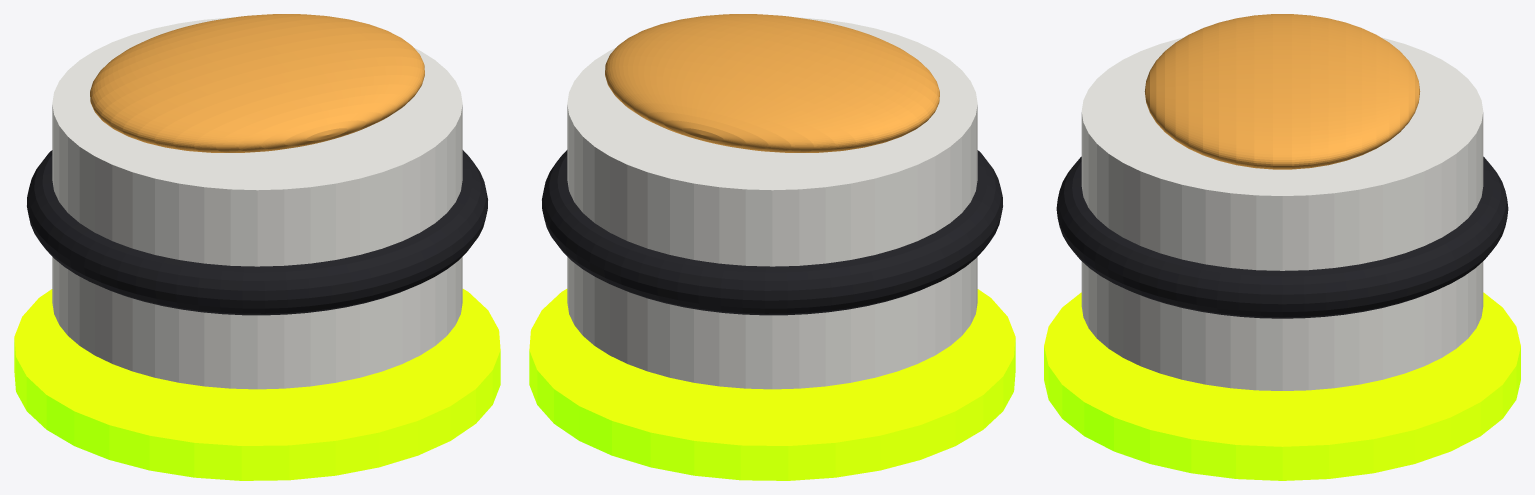
The model's file is food_sushi.glb.
3 views of the same model, side by side, from view 1: azimuth 30°, elevation 25°; view 2: azimuth 150°, elevation 25°; view 3: azimuth 270°, elevation 25° (orthographic). The views are drawn at different scales.
Visible parts, largest first — view 1: 01_03_Popular_Food_Sushi_part_01, 01_03_Popular_Food_Sushi_ROOT_base, 01_03_Popular_Food_Sushi_part_03, 01_03_Popular_Food_Sushi_part_02; view 2: 01_03_Popular_Food_Sushi_part_01, 01_03_Popular_Food_Sushi_ROOT_base, 01_03_Popular_Food_Sushi_part_03, 01_03_Popular_Food_Sushi_part_02; view 3: 01_03_Popular_Food_Sushi_part_01, 01_03_Popular_Food_Sushi_ROOT_base, 01_03_Popular_Food_Sushi_part_03, 01_03_Popular_Food_Sushi_part_02.
Boxes of the visible parts, left/top/right/bottom form: 01_03_Popular_Food_Sushi_part_01: left=52, top=17, right=462, bottom=389; 01_03_Popular_Food_Sushi_ROOT_base: left=14, top=289, right=500, bottom=480; 01_03_Popular_Food_Sushi_part_03: left=90, top=14, right=424, bottom=152; 01_03_Popular_Food_Sushi_part_02: left=27, top=150, right=487, bottom=315; 01_03_Popular_Food_Sushi_part_01: left=567, top=17, right=977, bottom=389; 01_03_Popular_Food_Sushi_ROOT_base: left=529, top=289, right=1015, bottom=480; 01_03_Popular_Food_Sushi_part_03: left=605, top=14, right=939, bottom=152; 01_03_Popular_Food_Sushi_part_02: left=542, top=150, right=1002, bottom=315; 01_03_Popular_Food_Sushi_part_01: left=1081, top=37, right=1483, bottom=390; 01_03_Popular_Food_Sushi_ROOT_base: left=1044, top=292, right=1520, bottom=480; 01_03_Popular_Food_Sushi_part_03: left=1144, top=14, right=1420, bottom=169; 01_03_Popular_Food_Sushi_part_02: left=1056, top=156, right=1508, bottom=318.
Bounding box in the file's own units: 0.76 × 0.5564 × 0.76.
